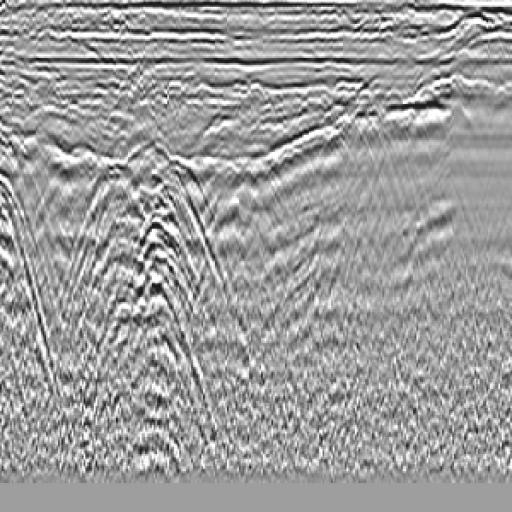metalic: (212, 105, 328, 278)
